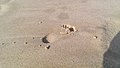human_foot_print: (1, 27, 75, 48), (42, 24, 76, 42), (0, 0, 14, 15)
